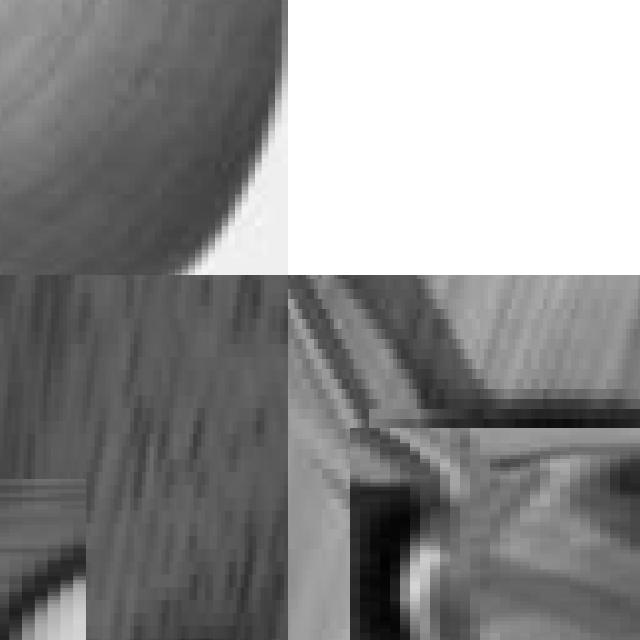spoons: (0, 0, 288, 275), (360, 419, 640, 640)
